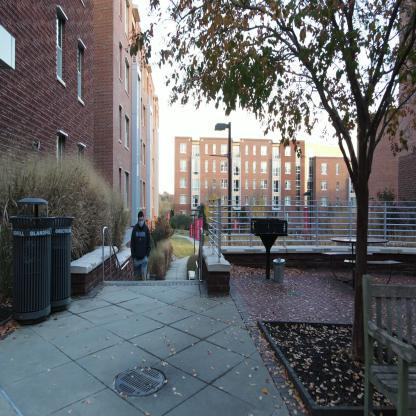Wolf Ridge: (0, 10, 402, 298)
